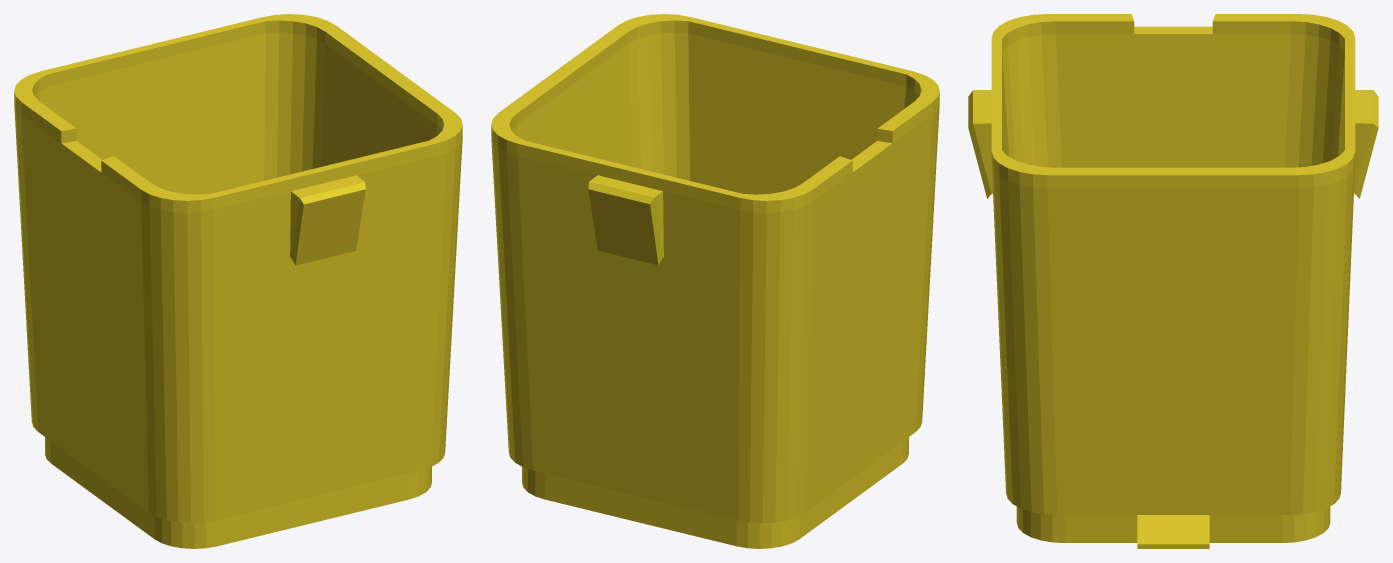
Rendered from bin_bottom.fbx.
3 views of the same model, side by side, from view 1: azimuth 30°, elevation 25°; view 2: azimuth 150°, elevation 25°; view 3: azimuth 270°, elevation 25° (orthographic). The views are drawn at different scales.
Visible parts, largest first — view 1: bin_bottom; view 2: bin_bottom; view 3: bin_bottom.
Part boxes in pixels (x1=…): bin_bottom: x1=14, y1=14, x2=462, y2=548; bin_bottom: x1=491, y1=14, x2=939, y2=548; bin_bottom: x1=968, y1=14, x2=1378, y2=548.
Size of the model in its own units: 276 by 280 by 274.
